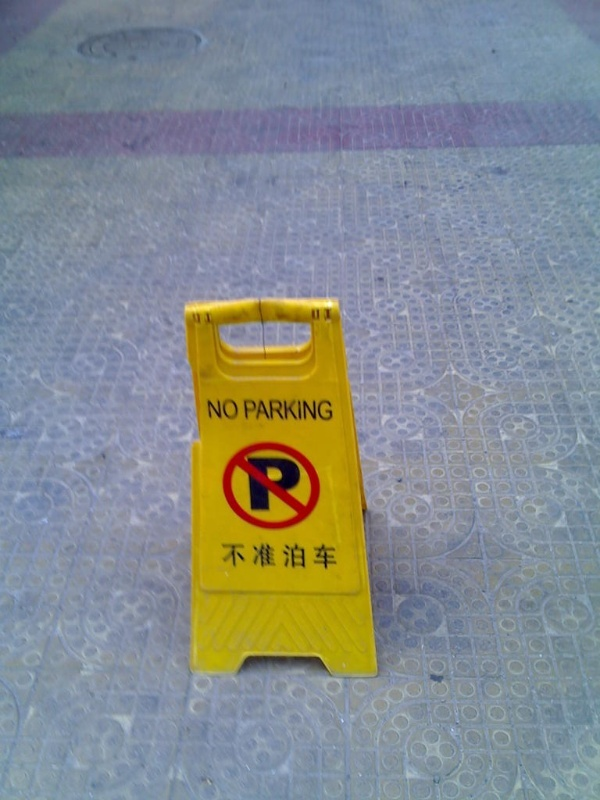text: (257, 455, 272, 511), (273, 455, 288, 511), (244, 455, 256, 511), (289, 455, 301, 511), (225, 541, 240, 570), (241, 541, 256, 570), (257, 541, 272, 570), (273, 541, 288, 570), (289, 541, 304, 570), (305, 541, 320, 570), (321, 541, 336, 570), (209, 399, 224, 422), (257, 399, 272, 422), (273, 399, 288, 422), (289, 399, 304, 422), (305, 399, 320, 422), (225, 399, 239, 422), (321, 399, 335, 422), (243, 399, 256, 422), (220, 541, 224, 570), (206, 399, 208, 422), (337, 541, 338, 570)
